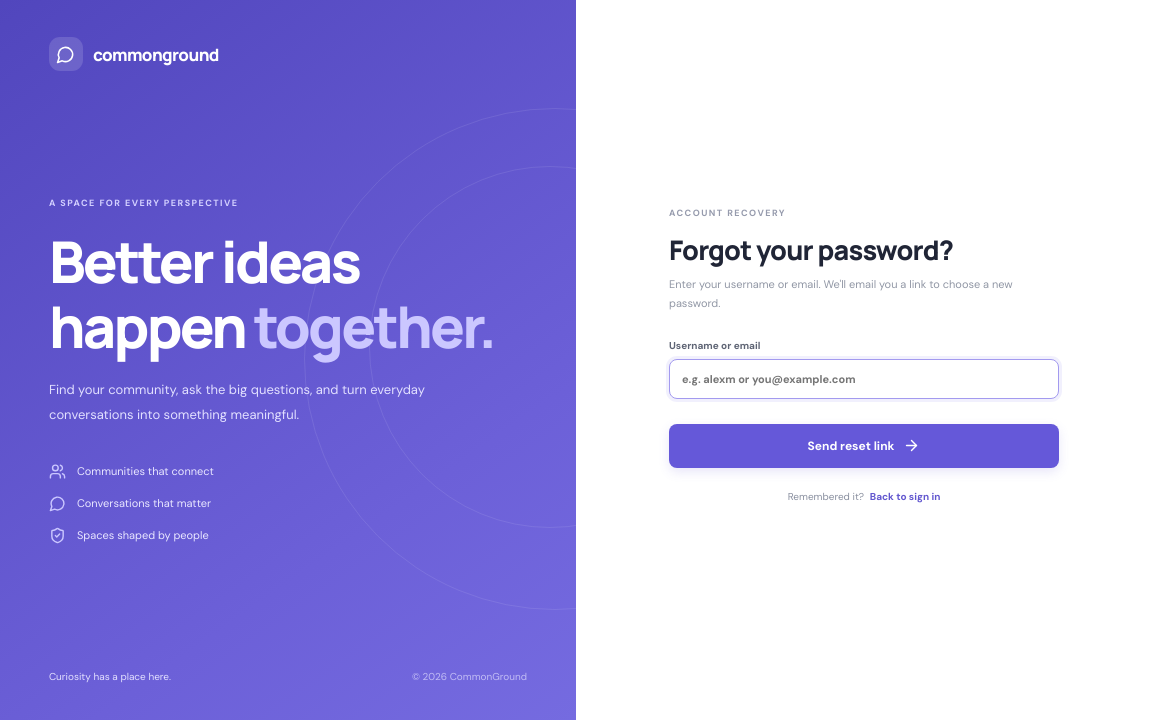
Test: ForgotPasswordPage › sends the reset request and shows the neutral answer
Type "  amina@example.com " into the field labelled "Username or email". click: (864, 379)
box: [669,359,1059,399]
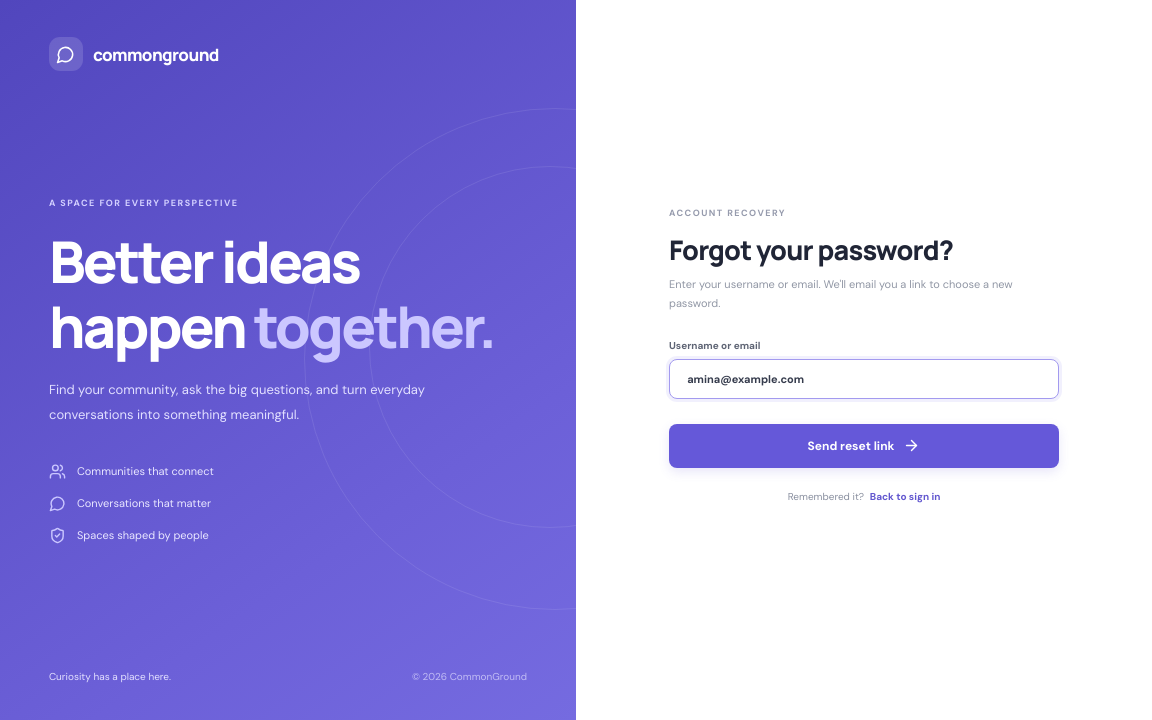
Click the button "Send reset link". click: (864, 446)
box: [669,424,1059,468]
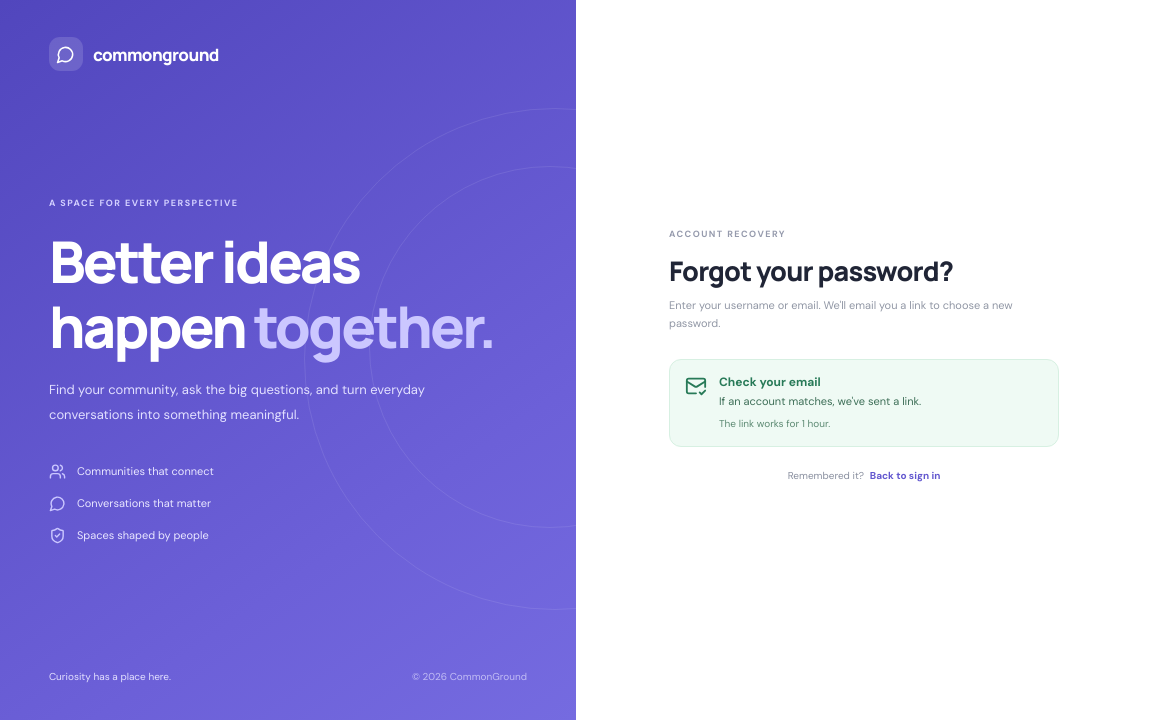
Expected: the text "Check your email" is shown, [719,374,821,390]
